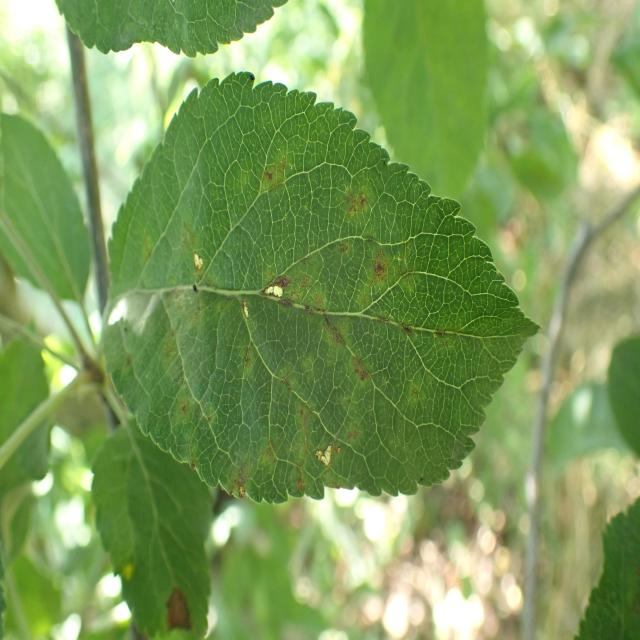scab: (124, 143, 473, 507)
